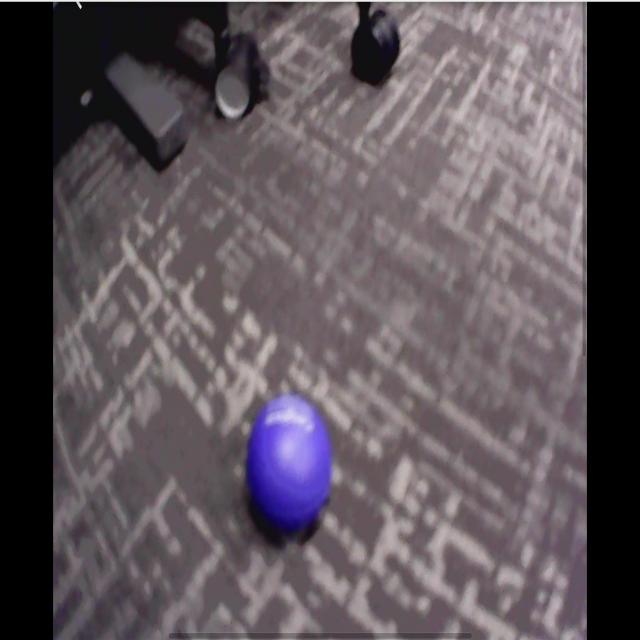ball: (248, 396, 332, 523)
